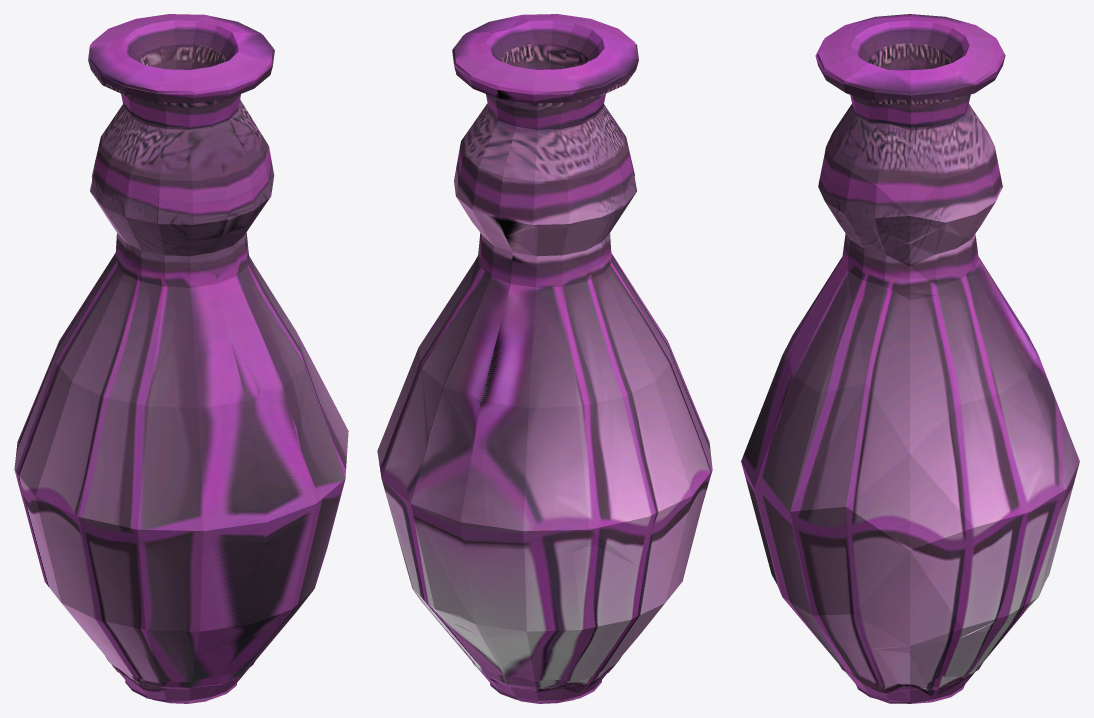
File: Bvase.glb
3 views of the same model, side by side, from view 1: azimuth 30°, elevation 25°; view 2: azimuth 150°, elevation 25°; view 3: azimuth 270°, elevation 25° (orthographic).
Visible parts, largest first — view 1: Bvase; view 2: Bvase; view 3: Bvase.
Part boxes in pixels (left/top/right/bottom): Bvase: left=14, top=14, right=348, bottom=703; Bvase: left=377, top=14, right=712, bottom=703; Bvase: left=741, top=14, right=1079, bottom=703.
Size of the model in its own units: 139 by 291 by 139.
Materials: 1 (1 with a texture image).
